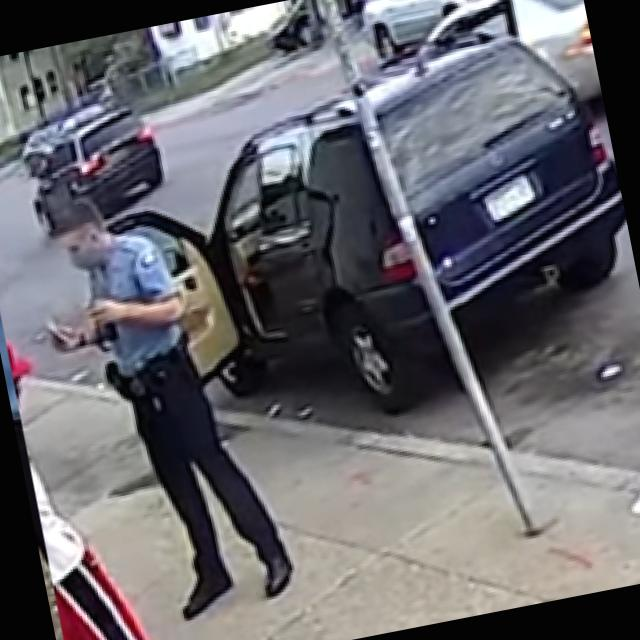person: (21, 172, 300, 637), (5, 321, 172, 640)
